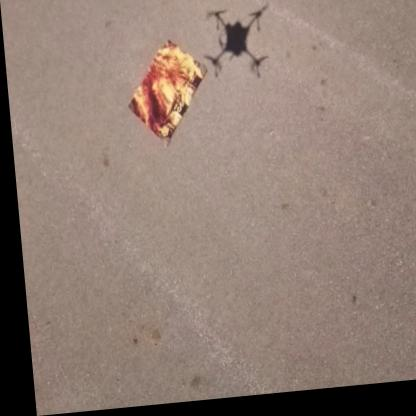fire-poster: (121, 39, 211, 154)
